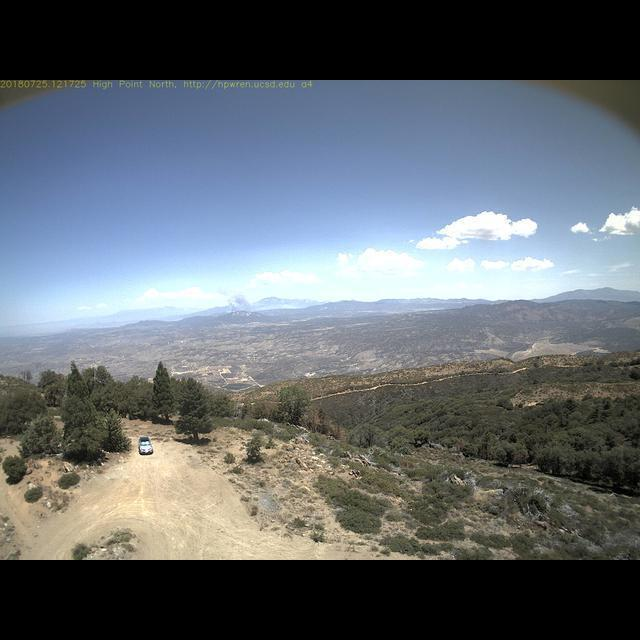Smoke: (211, 282, 263, 319)
